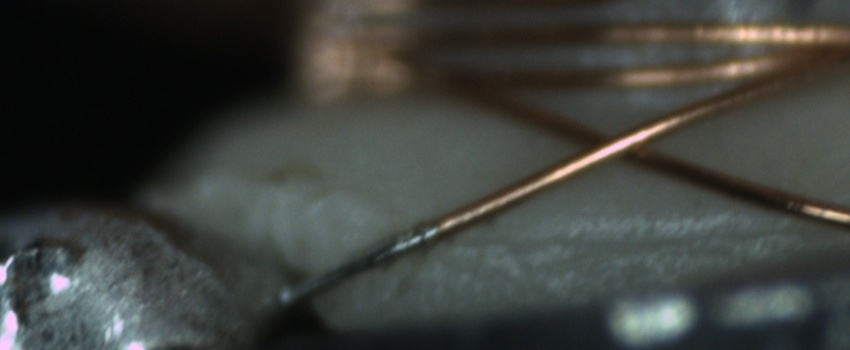CL: (549, 114, 680, 172)
DL: (441, 206, 849, 268)
TS: (289, 228, 438, 306)
TTCW: (273, 196, 484, 311)
